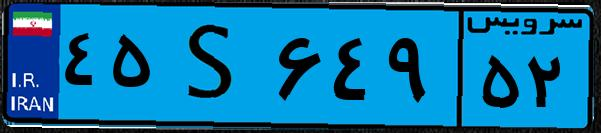2: (525, 38, 570, 115)
4: (330, 28, 385, 110), (57, 26, 110, 100)
5: (475, 38, 525, 113), (110, 28, 158, 98)
6: (270, 28, 330, 110)
9: (385, 28, 445, 110)
S: (158, 12, 270, 120)
